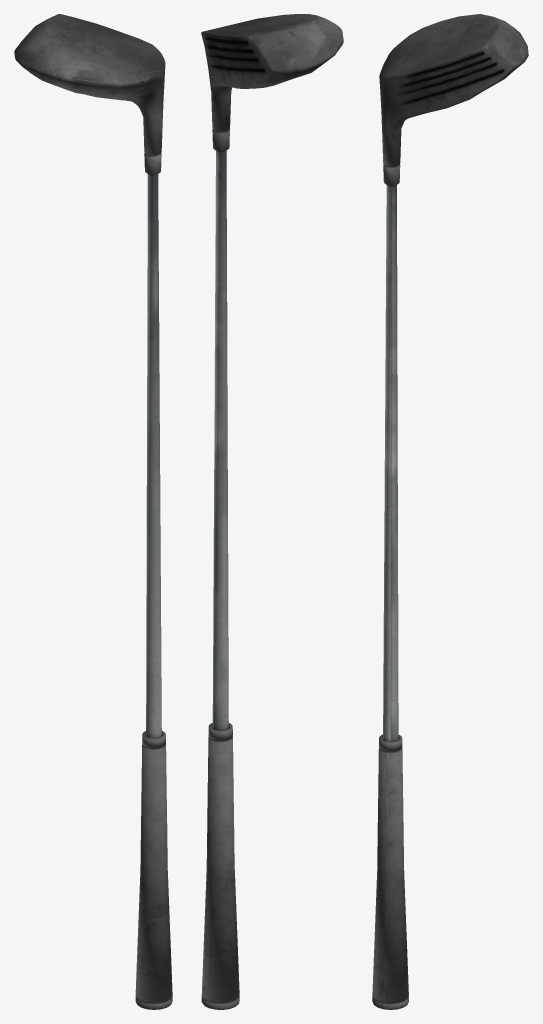
Rendered from club.glb.
3 renders of one model, left to right at view 1: azimuth 90°, elevation 25°; view 2: azimuth 210°, elevation 25°; view 3: azimuth 270°, elevation 25°, orthographic. The views are drawn at different scales.
Visible parts, largest first — view 1: Object_2; view 2: Object_2; view 3: Object_2.
Part boxes in pixels (x1,y1,x2,y2): Object_2: (14,14,172,1009); Object_2: (201,14,343,1009); Object_2: (372,14,528,1009).
Size of the model in its own units: 0.5263 by 4.87 by 0.7098.
1 material, 1 textured.
